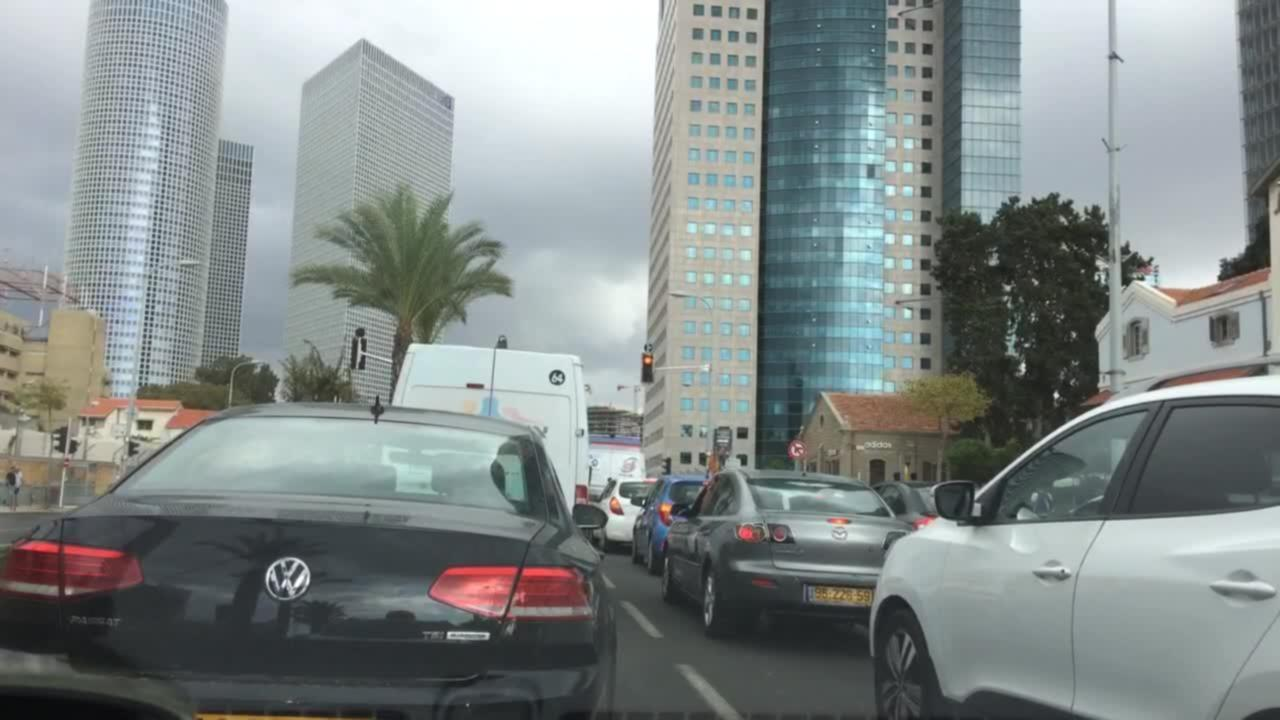Mazda: (829, 524, 853, 545)
Volkswagen: (258, 551, 319, 616)
